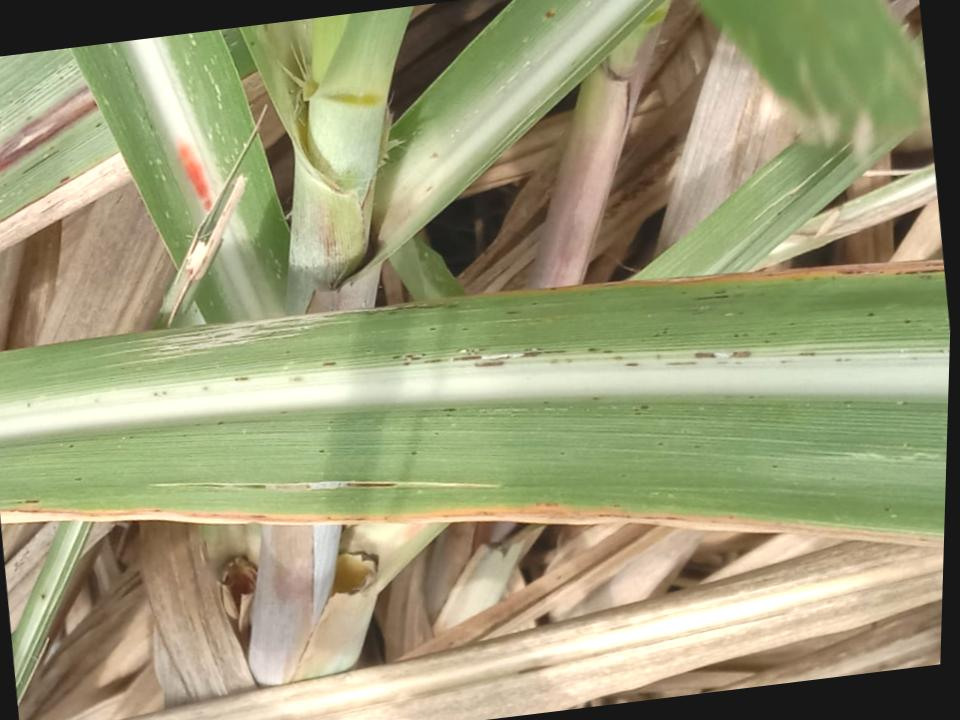RedRot: (0, 83, 98, 174), (177, 138, 212, 211)
Rust: (448, 347, 567, 362), (443, 510, 504, 517), (693, 292, 731, 301), (512, 345, 546, 353), (452, 346, 490, 353), (474, 360, 505, 368), (632, 403, 651, 416), (693, 350, 719, 359), (729, 350, 755, 358), (403, 352, 426, 361), (533, 500, 561, 507), (664, 360, 698, 365), (835, 269, 868, 274), (665, 515, 690, 521), (920, 268, 944, 274), (441, 406, 460, 413), (506, 309, 523, 316), (789, 275, 807, 281), (289, 376, 304, 383), (234, 376, 249, 383), (923, 262, 944, 267), (23, 498, 40, 504), (250, 512, 267, 518), (778, 321, 798, 326), (656, 439, 667, 448), (713, 288, 727, 295), (864, 311, 878, 318), (904, 268, 918, 275), (539, 399, 551, 407), (424, 358, 443, 363), (748, 291, 767, 296), (732, 291, 745, 298), (626, 361, 640, 367), (590, 395, 602, 402), (691, 444, 704, 450), (613, 354, 624, 361), (619, 471, 630, 478), (764, 331, 779, 336), (322, 361, 337, 366), (902, 318, 911, 326), (547, 358, 559, 364), (428, 326, 440, 332), (601, 348, 615, 353), (611, 501, 621, 508), (564, 357, 575, 363), (73, 476, 84, 482), (153, 506, 164, 512), (587, 347, 600, 352), (9, 499, 22, 504), (410, 449, 419, 456), (67, 442, 76, 449), (763, 338, 773, 344), (843, 400, 855, 405), (746, 394, 756, 400), (461, 326, 473, 331), (392, 354, 402, 360), (280, 409, 290, 415), (925, 274, 933, 281), (735, 283, 742, 291), (547, 287, 558, 292), (401, 361, 412, 366), (741, 331, 750, 337), (798, 352, 816, 355), (558, 450, 567, 456), (283, 349, 292, 355), (216, 420, 225, 426), (877, 269, 886, 275), (716, 361, 729, 365), (446, 304, 459, 308), (444, 413, 457, 417), (734, 360, 744, 365), (365, 348, 375, 353), (202, 385, 209, 392), (830, 274, 837, 281), (318, 448, 326, 454), (36, 364, 44, 370), (770, 464, 779, 469), (893, 271, 902, 276), (835, 357, 842, 363), (884, 506, 891, 512), (662, 327, 668, 334), (128, 434, 135, 440), (780, 359, 788, 364), (680, 290, 688, 295), (531, 301, 539, 306), (433, 431, 441, 436), (181, 433, 189, 438), (161, 390, 167, 396), (193, 422, 202, 426), (653, 332, 660, 337), (26, 402, 31, 409), (728, 515, 735, 520), (844, 358, 852, 362), (732, 333, 740, 337), (738, 310, 744, 315), (328, 419, 334, 424), (153, 391, 158, 397), (120, 365, 126, 370), (926, 328, 933, 331), (138, 379, 143, 383)
Yellow: (124, 503, 768, 524), (684, 270, 856, 283), (866, 263, 944, 275)
